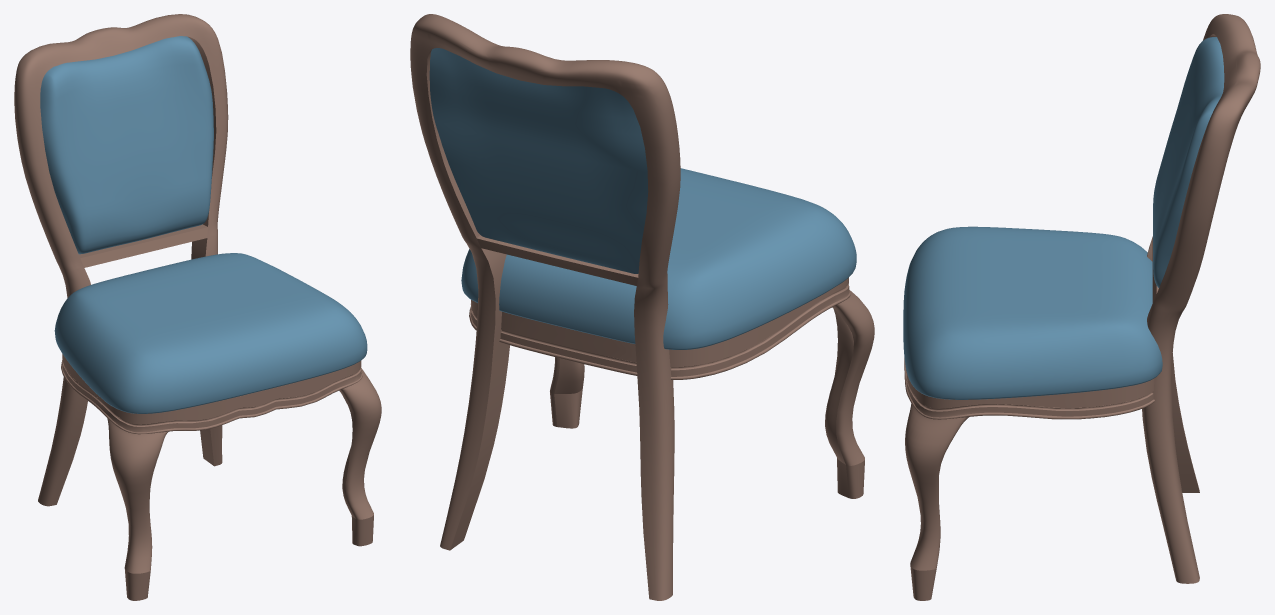
The model's file is 382_ダイニングチェア.glb.
The picture shows the model from 3 angles, left to right: view 1: azimuth 30°, elevation 25°; view 2: azimuth 150°, elevation 25°; view 3: azimuth 270°, elevation 25°; orthographic projection. The views are drawn at different scales.
Parts seen in each view (by area): view 1: 382_ダイニングチェア; view 2: 382_ダイニングチェア; view 3: 382_ダイニングチェア.
Part boxes in pixels (bbox=[...]): 382_ダイニングチェア: bbox=[14, 14, 381, 600]; 382_ダイニングチェア: bbox=[410, 14, 874, 600]; 382_ダイニングチェア: bbox=[903, 14, 1260, 600].
Size of the model in its own units: 0.5423 by 0.8538 by 0.5773.
